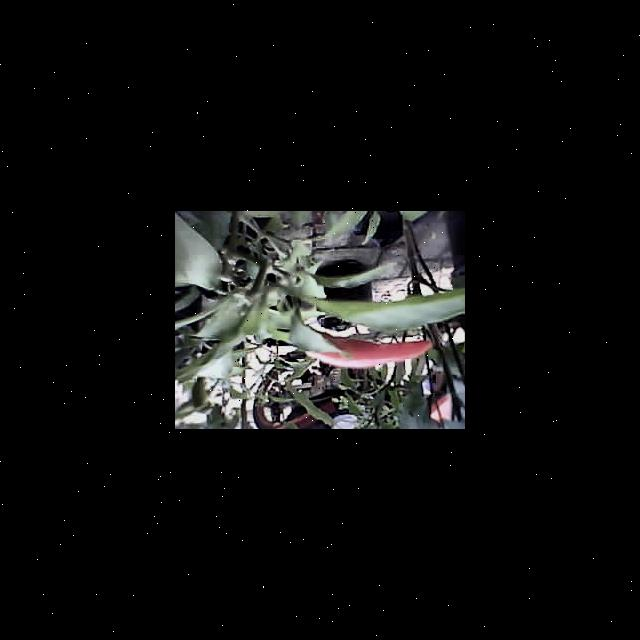Cabai: (304, 328, 431, 379)
